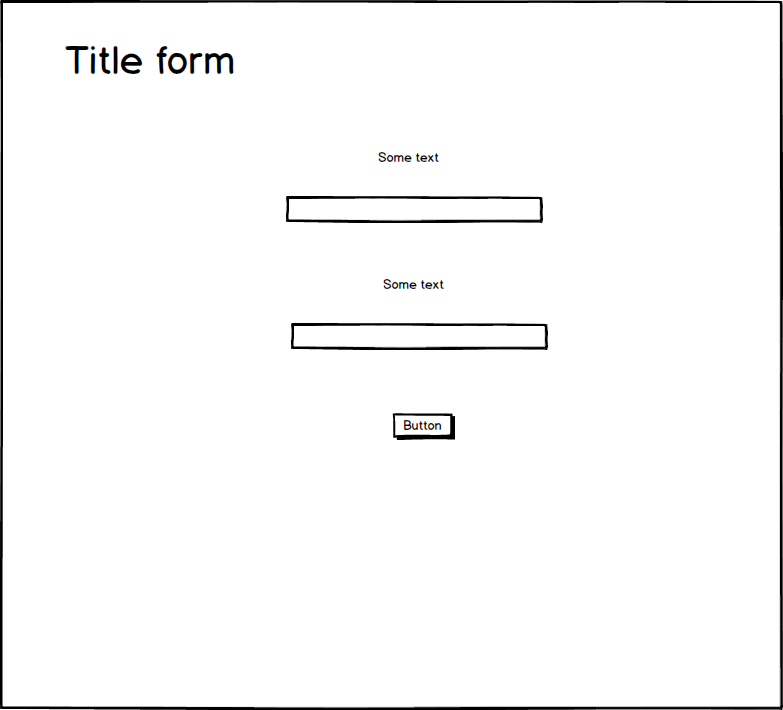button: (385, 409, 464, 445)
h1: (55, 38, 242, 84)
input: (289, 319, 552, 356), (281, 193, 550, 227)
label: (381, 271, 454, 294), (370, 150, 441, 165)
